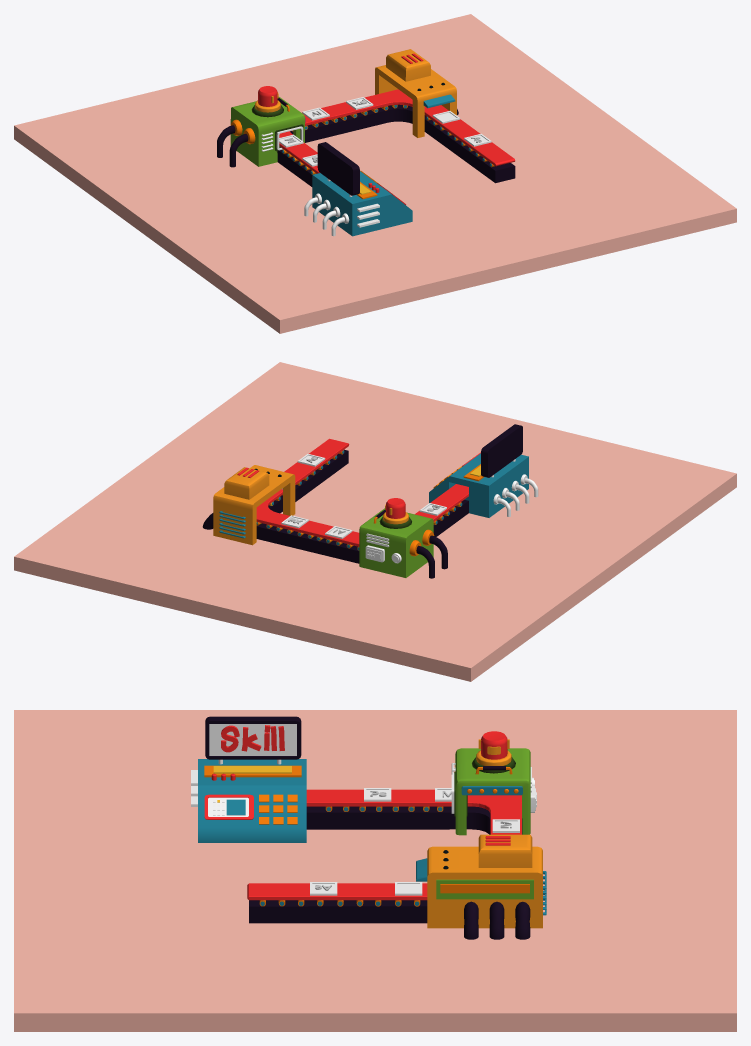
Rendered from cobain  yes.obj.
The picture shows the model from 3 angles, top to bottom: view 1: azimuth 30°, elevation 25°; view 2: azimuth 150°, elevation 25°; view 3: azimuth 270°, elevation 25°; orthographic projection. The views are drawn at different scales.
Parts seen in each view (by area): view 1: pCube51, pCube54, pCube49, pCube73, pCube52, pCube27, pCube92; view 2: pCube51, pCube49, pCube54, pCube52, pCube27, pCube73, pCube92; view 3: pCube51, pCube54, pCube49, pCube73, pCube52, pCube27, pCube89, pCube92, pCube134, typeMesh6, pCube135, pCube128 (+6 smaller).
Boxes of the visible parts, left/top/right/bottom form: pCube51: left=14, top=14, right=736, bottom=333; pCube54: left=277, top=104, right=515, bottom=186; pCube49: left=375, top=49, right=456, bottom=137; pCube73: left=312, top=171, right=412, bottom=236; pCube52: left=279, top=89, right=515, bottom=173; pCube27: left=230, top=97, right=304, bottom=166; pCube92: left=317, top=142, right=359, bottom=195; pCube51: left=14, top=362, right=736, bottom=681; pCube49: left=213, top=465, right=295, bottom=545; pCube54: left=256, top=449, right=468, bottom=563; pCube52: left=256, top=438, right=468, bottom=546; pCube27: left=359, top=508, right=433, bottom=577; pCube73: left=429, top=453, right=528, bottom=517; pCube92: left=481, top=424, right=522, bottom=477; pCube51: left=14, top=710, right=736, bottom=1031; pCube54: left=249, top=806, right=522, bottom=923; pCube49: left=427, top=834, right=542, bottom=928; pCube73: left=198, top=759, right=306, bottom=842; pCube52: left=247, top=789, right=521, bottom=900; pCube27: left=455, top=748, right=530, bottom=835; pCube89: left=209, top=724, right=296, bottom=755; pCube92: left=205, top=716, right=301, bottom=759; pCube134: left=436, top=879, right=533, bottom=899; typeMesh6: left=221, top=725, right=284, bottom=752; pCube135: left=440, top=884, right=529, bottom=893; pCube128: left=204, top=765, right=301, bottom=777.
Bounding box in the file's own units: 22.49 × 3.72 × 22.67.
